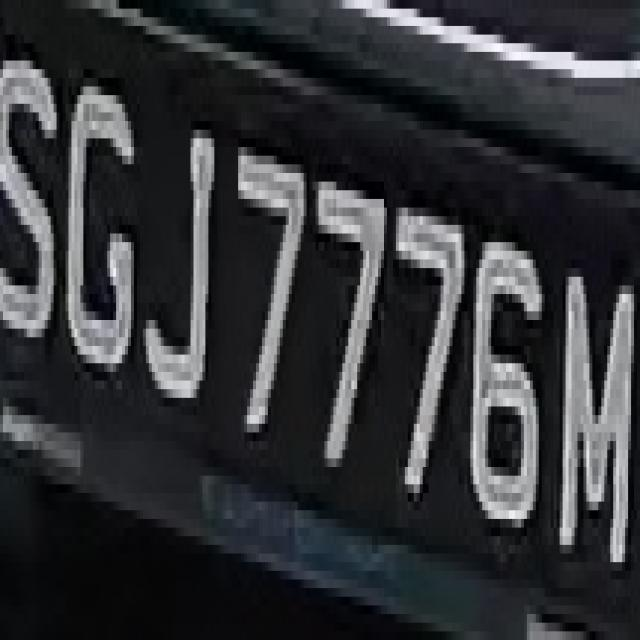6: (470, 182, 545, 562)
7: (223, 121, 313, 476), (304, 130, 390, 484), (387, 173, 467, 519)
G: (59, 26, 137, 415)
J: (143, 86, 223, 432)
M: (557, 208, 631, 580)
S: (0, 18, 60, 380)
